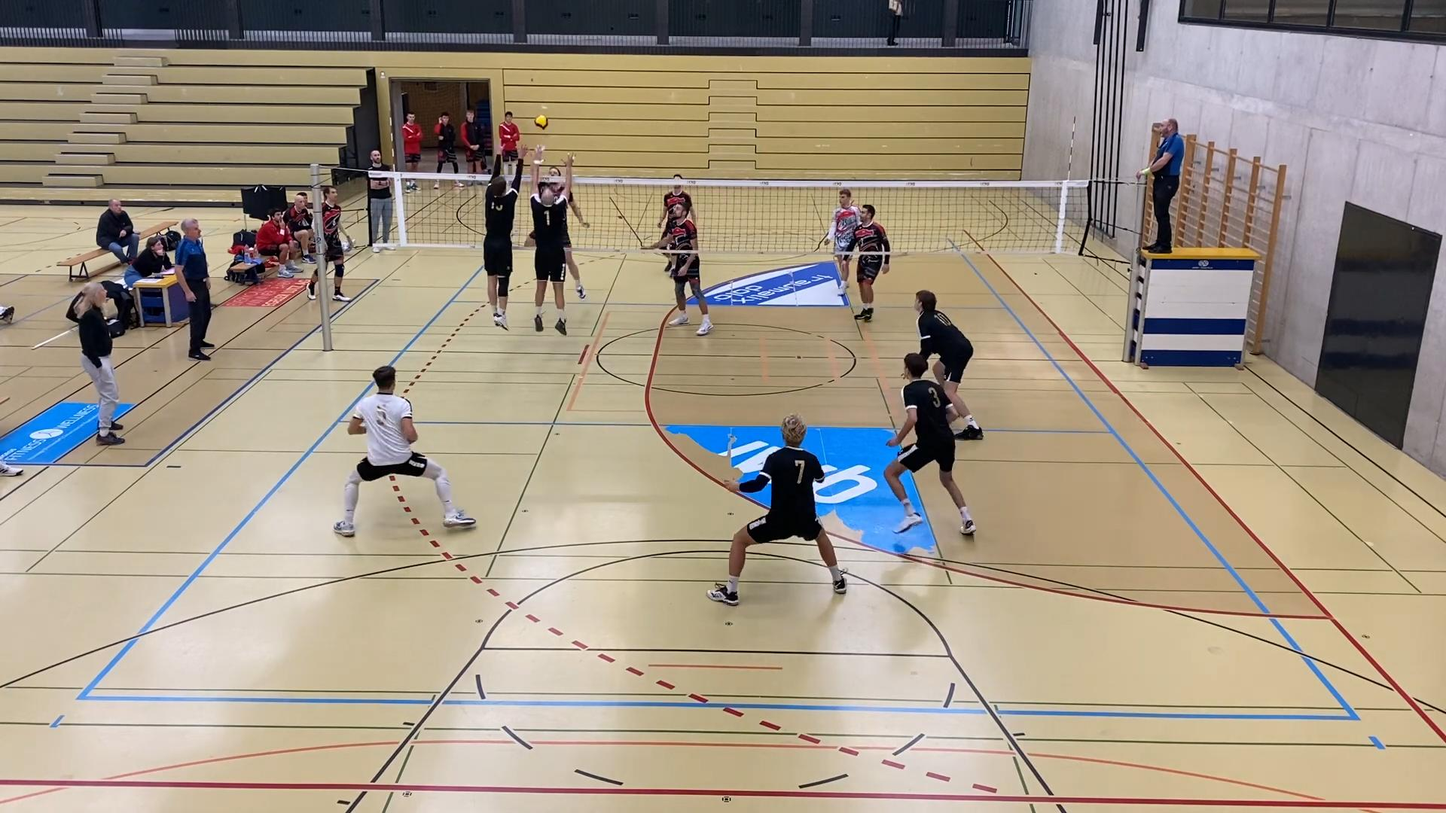Attack: (548, 160, 594, 295)
Block: (484, 141, 530, 335), (531, 151, 578, 337)
Player: (706, 415, 846, 604), (334, 366, 475, 536), (884, 353, 975, 534), (914, 290, 982, 440), (651, 202, 712, 336), (854, 205, 889, 321), (825, 188, 860, 294), (322, 187, 350, 302), (658, 174, 697, 237)
ball: (535, 113, 552, 130)
